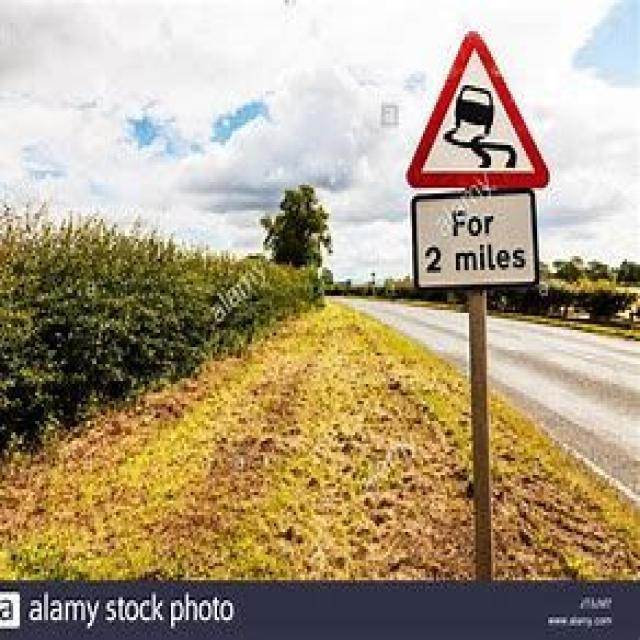slippery road: (406, 31, 552, 187)
